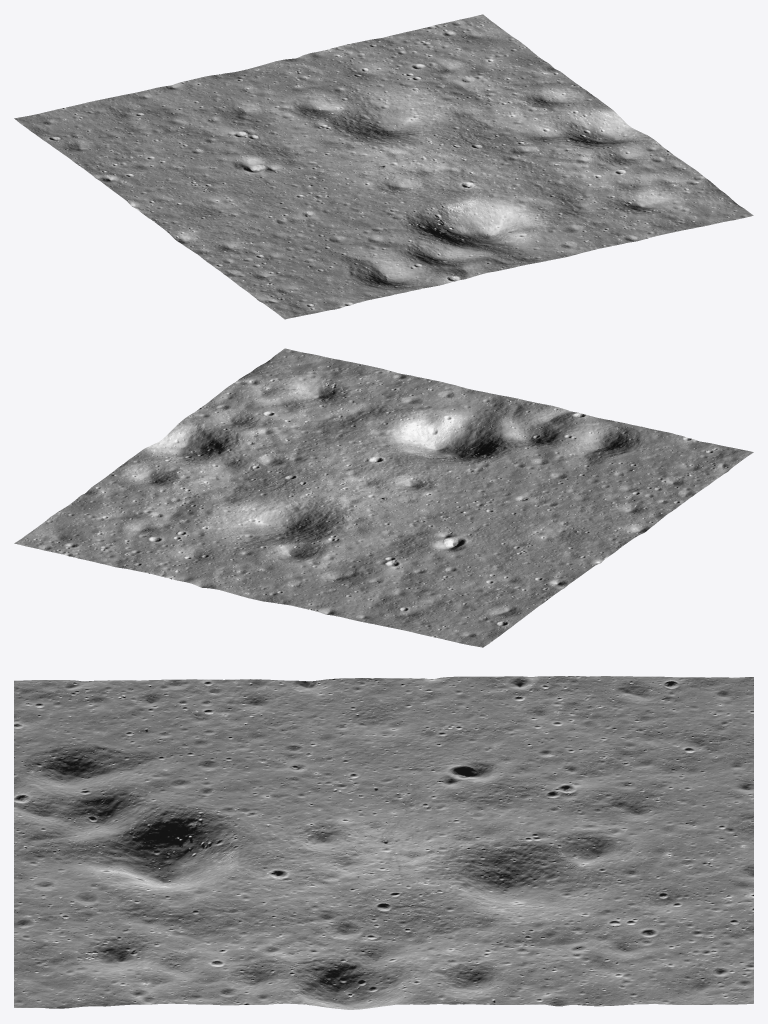
The model's file is close-high.glb.
3 renders of one model, top to bottom at view 1: azimuth 30°, elevation 25°; view 2: azimuth 150°, elevation 25°; view 3: azimuth 270°, elevation 25°, orthographic. The views are drawn at different scales.
Parts seen in each view (by area): view 1: close; view 2: close; view 3: close.
Part boxes in pixels (bbox=[...]): close: bbox=[14, 14, 753, 319]; close: bbox=[14, 348, 753, 647]; close: bbox=[14, 676, 753, 1009].
Bounding box in the file's own units: 1215 × 60.29 × 1215.
1 material, 1 textured.
